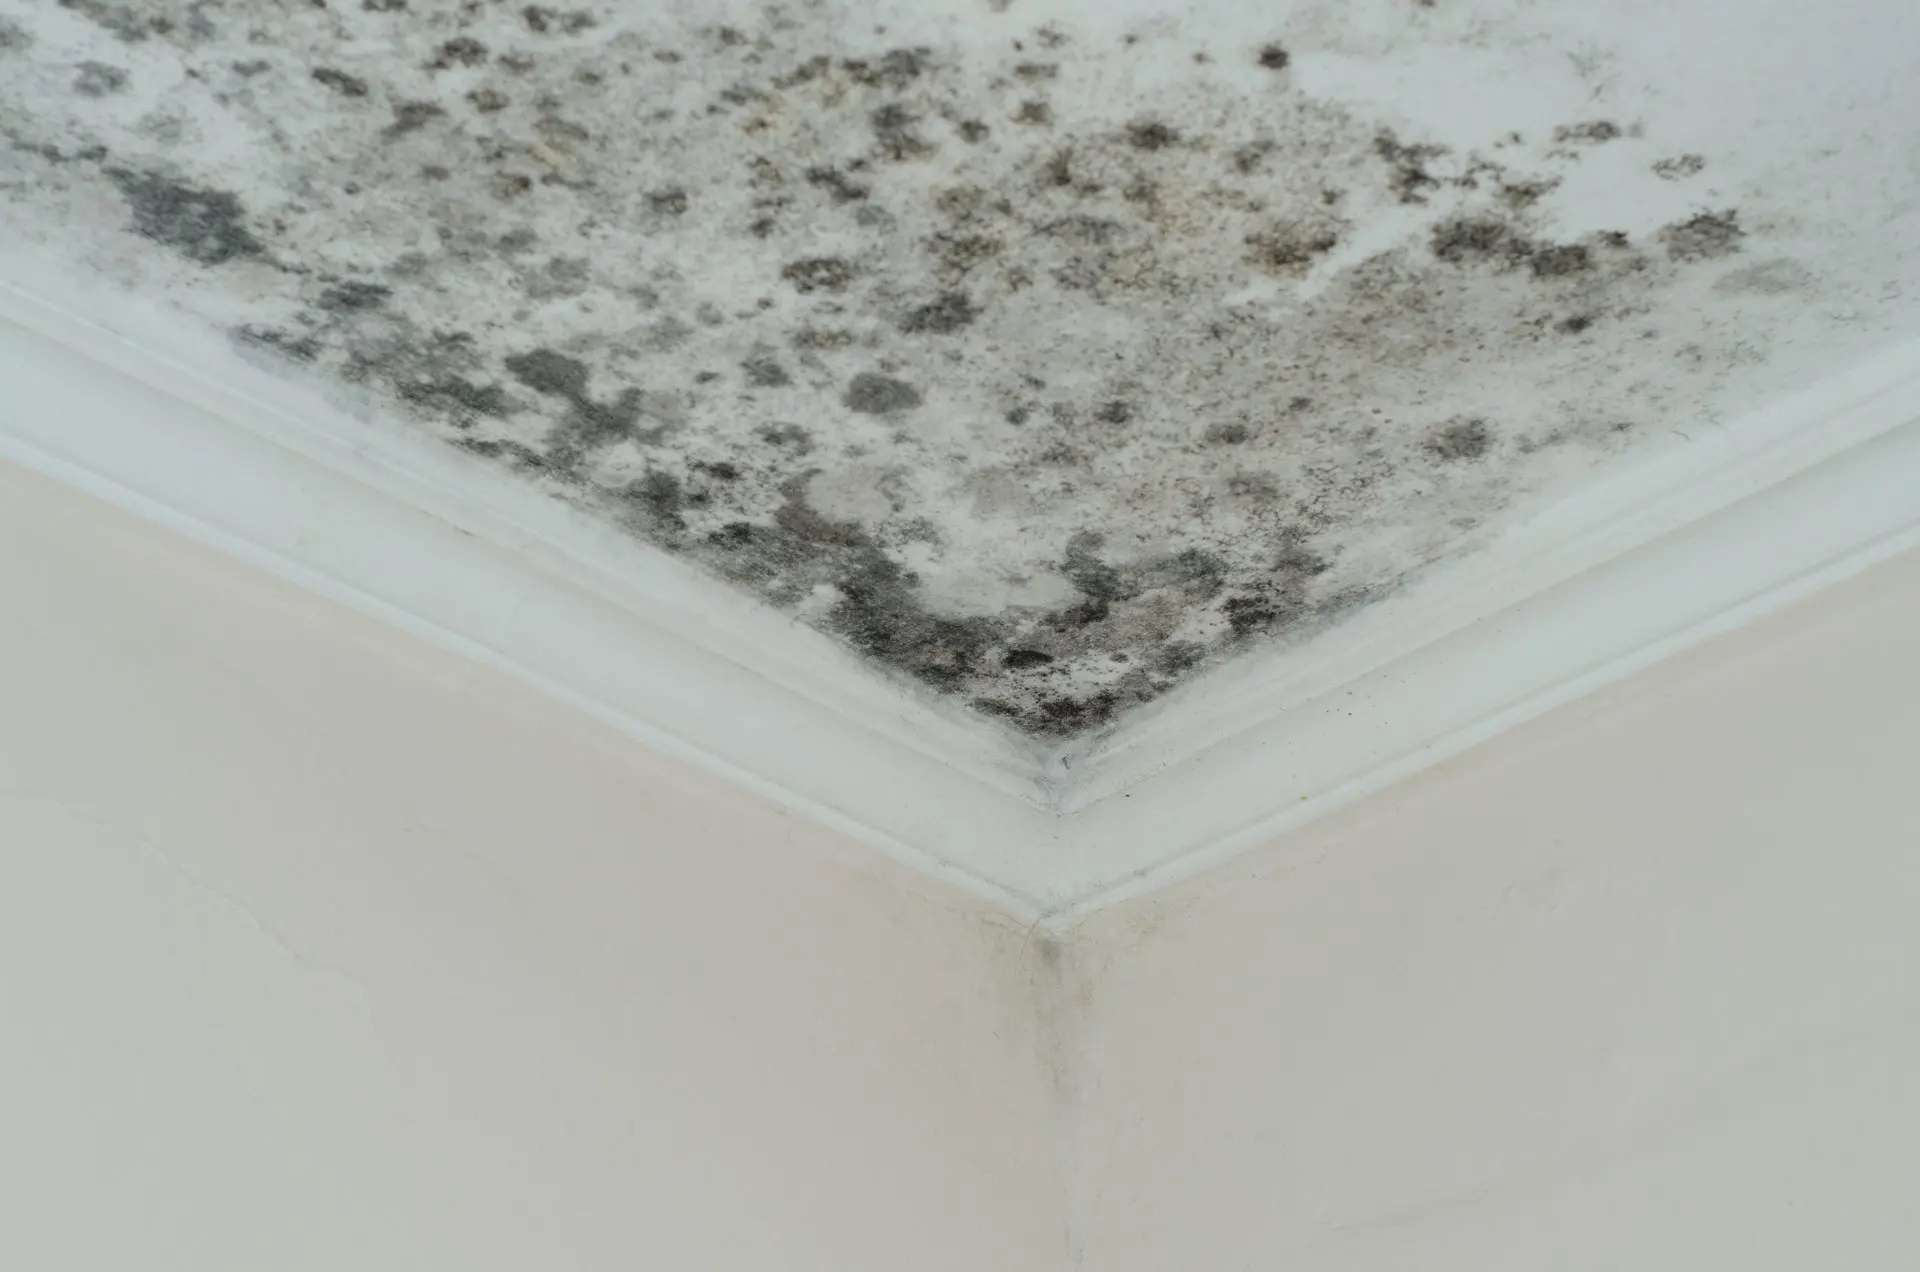schimmel: (813, 180, 1800, 750), (174, 76, 813, 559), (855, 37, 1530, 156)
